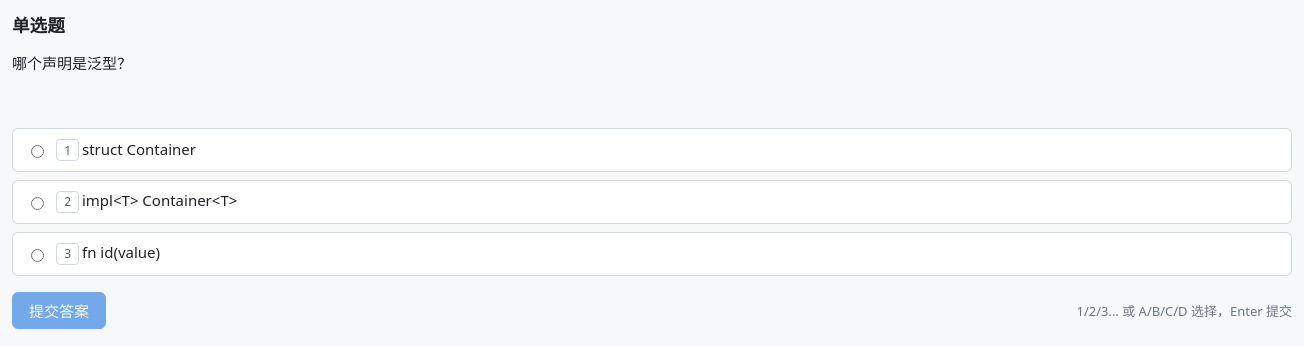
it: SingleChoice › submits the selected option and locks after submit
Click the radio button labelled "1 struct Container".
click(37, 151)  # box [31, 145, 44, 158]
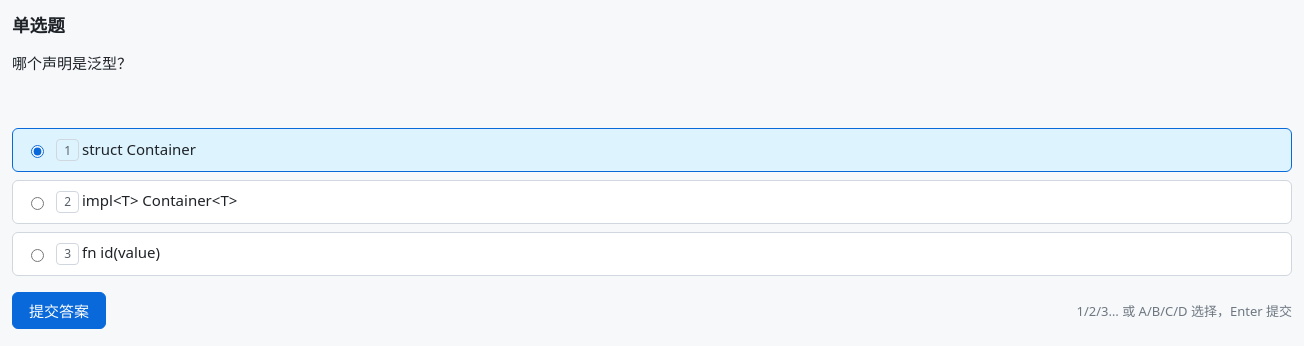
Click the button "提交答案".
click(59, 310)  # box [12, 292, 106, 329]
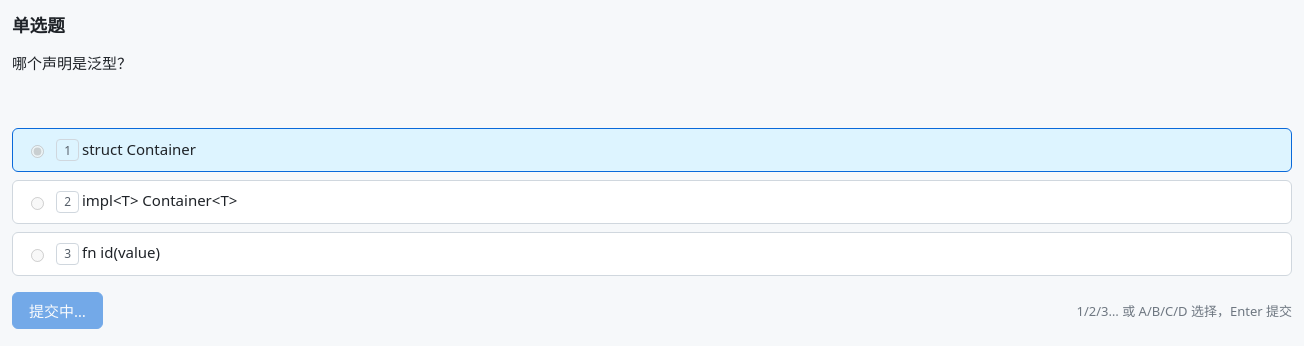
Now the button "提交中…" is disabled, box [12, 292, 103, 329]
Now the radio button labelled "1 struct Container" is disabled, box [31, 145, 44, 158]
